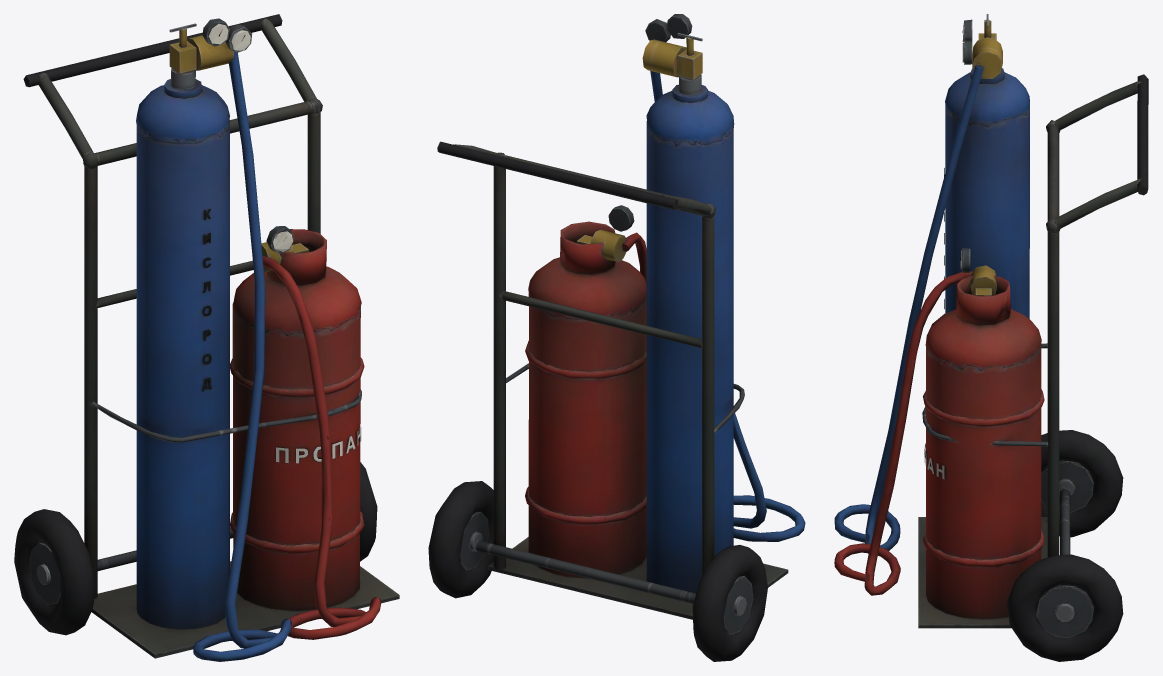
The model's file is prop_gas_cylinders.glb.
3 views of the same model, side by side, from view 1: azimuth 30°, elevation 25°; view 2: azimuth 150°, elevation 25°; view 3: azimuth 270°, elevation 25° (orthographic). The views are drawn at different scales.
Visible parts, largest first — view 1: prop_gas_cylinders; view 2: prop_gas_cylinders; view 3: prop_gas_cylinders.
Part boxes in pixels (x1=…): prop_gas_cylinders: x1=14, y1=14, x2=399, y2=661; prop_gas_cylinders: x1=428, y1=14, x2=805, y2=661; prop_gas_cylinders: x1=834, y1=14, x2=1148, y2=661.
Bounding box in the file's own units: 0.8363 × 1.6 × 0.8102.
1 material, 1 textured.
